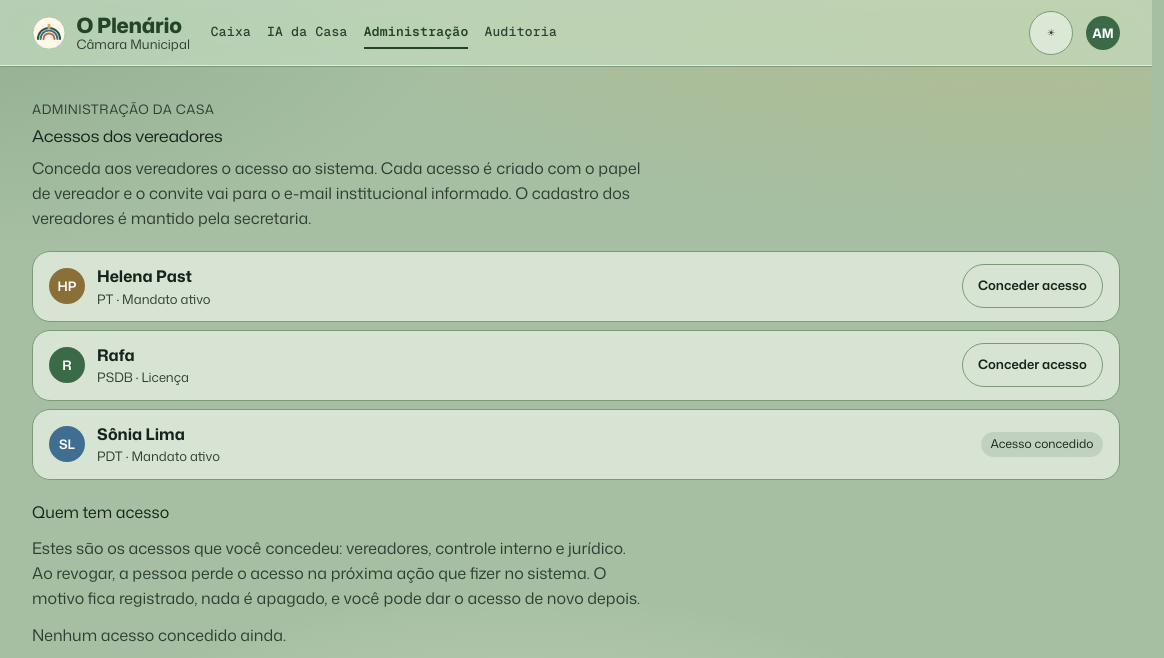
Área do administrador da Casa (/administracao) › Conceder acesso: os 3 passos NA ORDEM (acesso por último), o form fecha e a confirmação aparece
The width and height of the screenshot is (1164, 658).
Click the button with aria-label "Conceder acesso a Helena Past": (1032, 286) 962,264 -> 1103,308
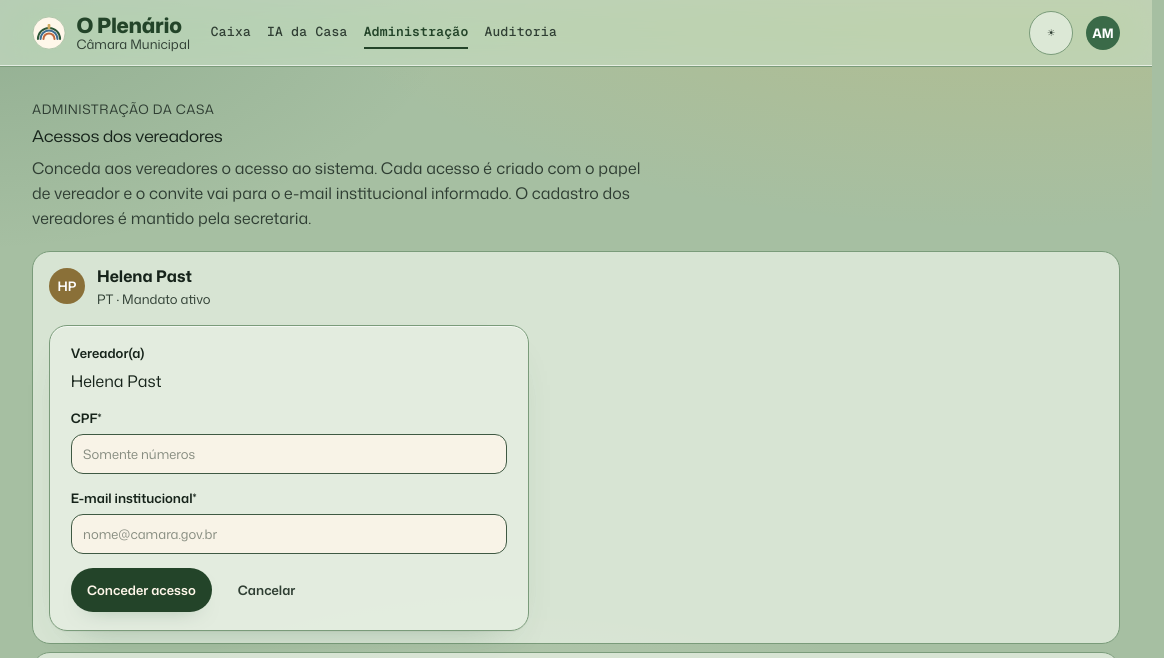
Check: the text "Helena Past" below "Vereador(a)" is shown, box 71,370 -> 161,392
In the field labelled "CPF*": (289, 454) 71,434 -> 507,474, type "529.982.247-25"
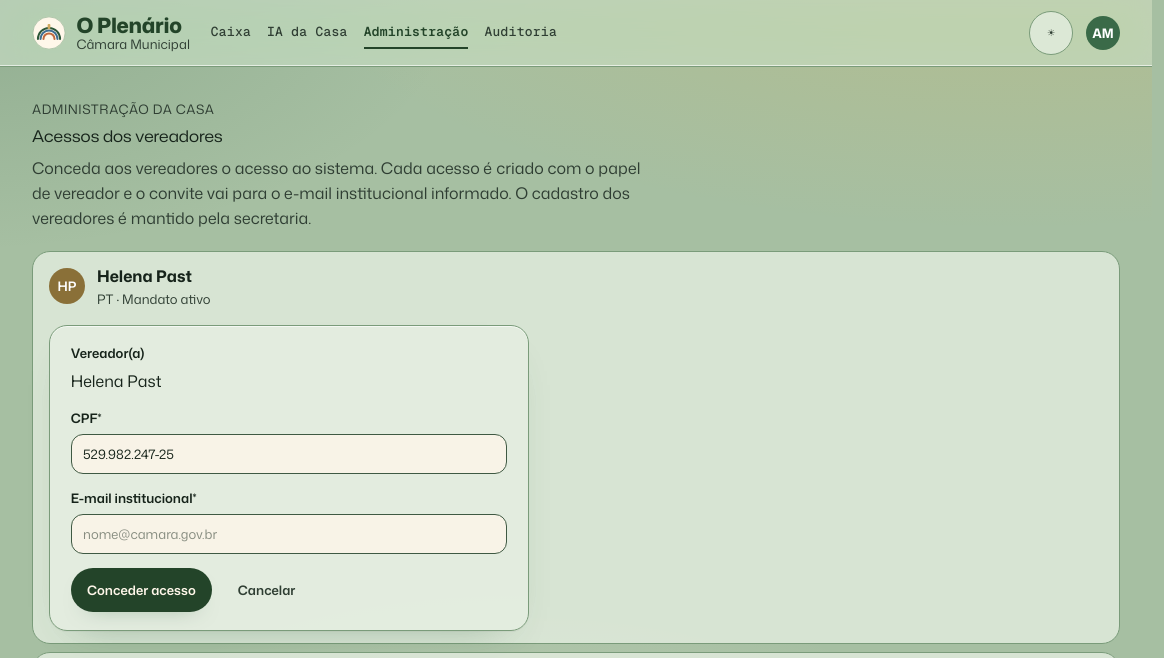
In the field labelled "E-mail institucional*": (289, 534) 71,514 -> 507,554, type "helena@camara.local"
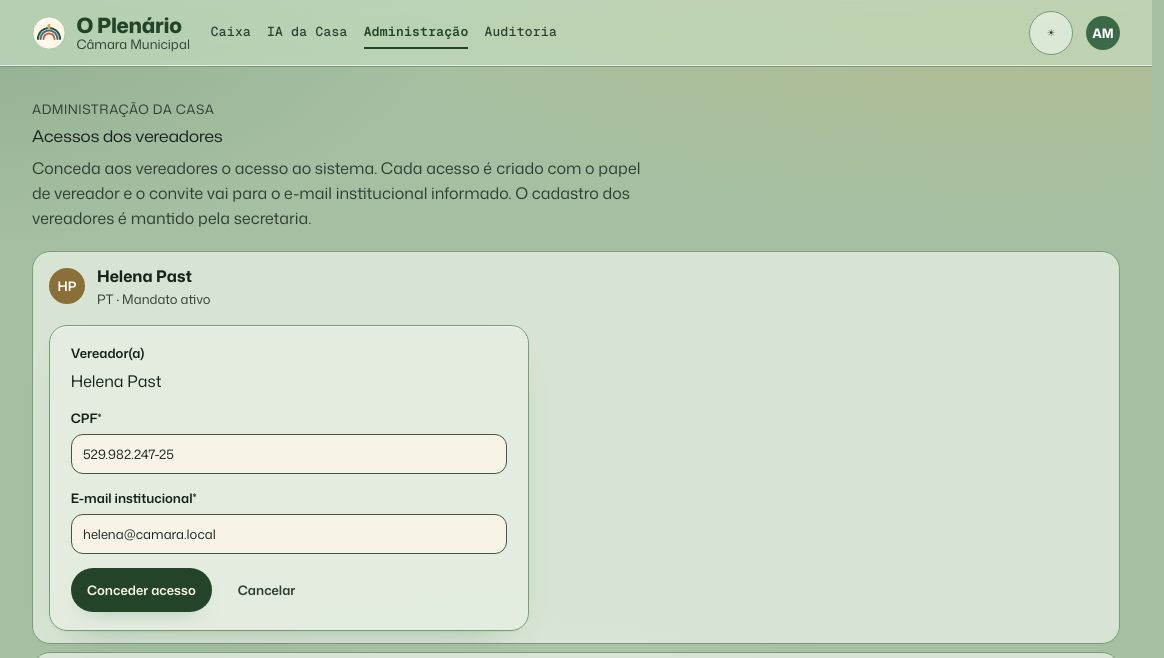
Submit the form "Conceder acesso", box 49,325 -> 529,631
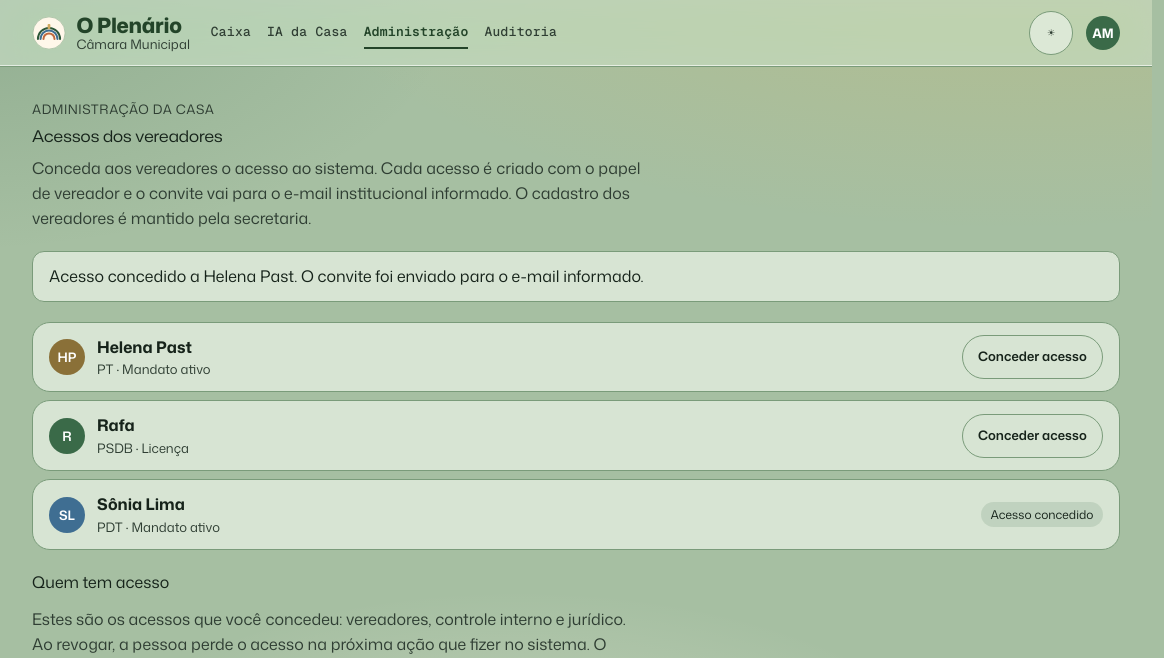
Check: the message shows "Acesso concedido a Helena Past", box 32,251 -> 1120,302
